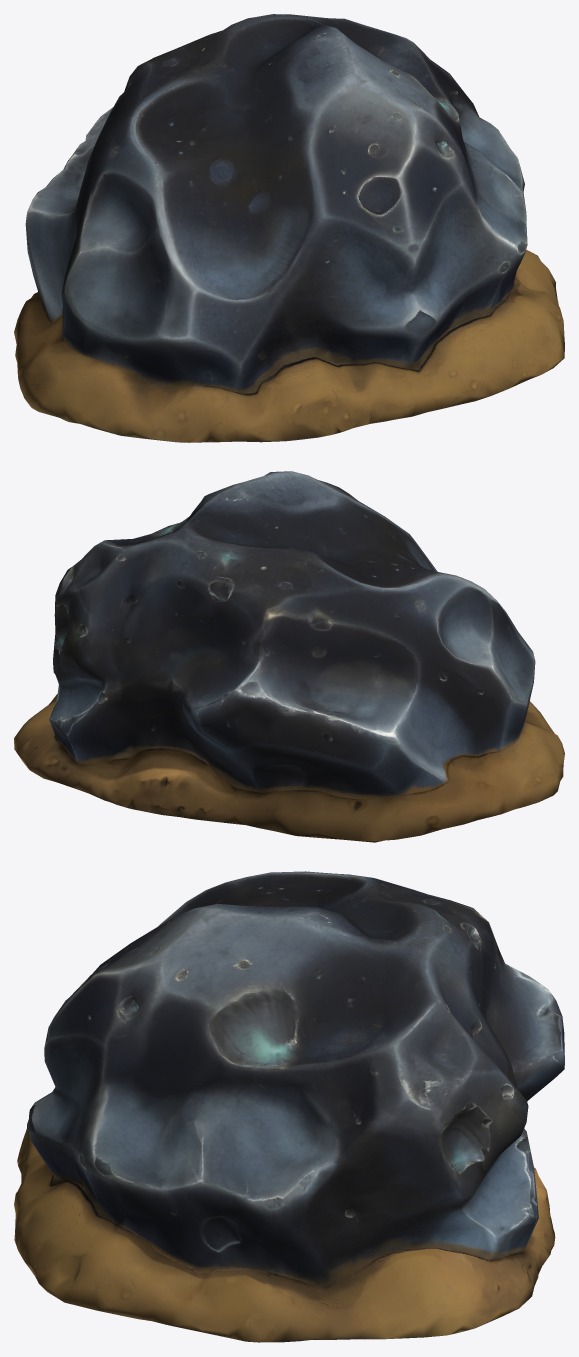
The picture shows the model from 3 angles, top to bottom: view 1: azimuth 30°, elevation 25°; view 2: azimuth 150°, elevation 25°; view 3: azimuth 270°, elevation 25°; orthographic projection. The views are drawn at different scales.
Bounding box in the file's own units: 2 × 1.01 × 1.59.
1 material, 1 textured.
